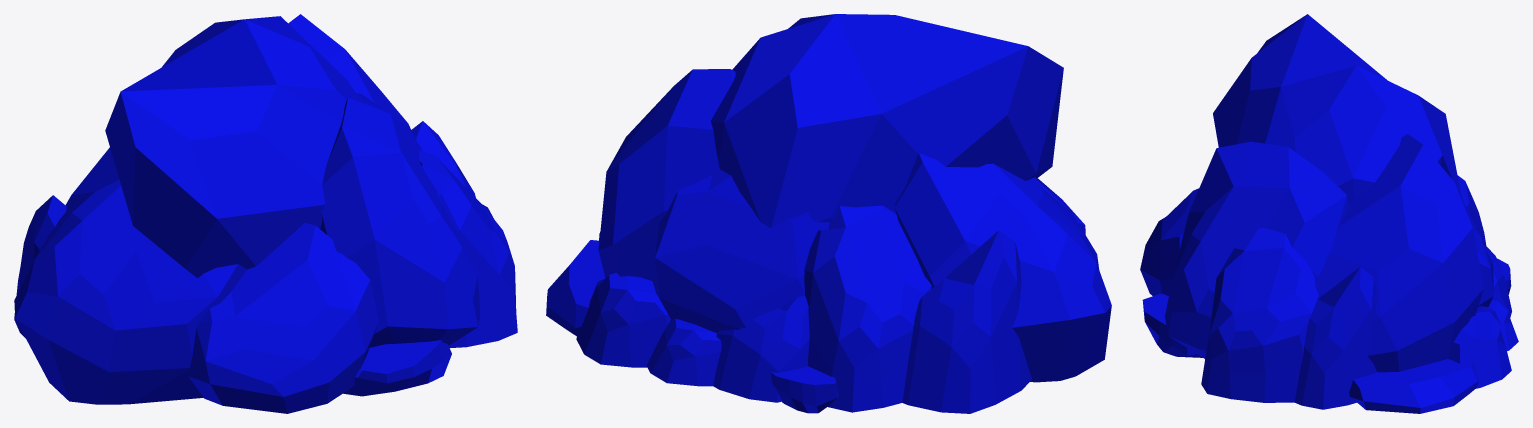
Rendered from SM_Mountain3.fbx.
3 renders of one model, left to right at view 1: azimuth 30°, elevation 25°; view 2: azimuth 150°, elevation 25°; view 3: azimuth 270°, elevation 25°, orthographic. The views are drawn at different scales.
Parts seen in each view (by area): view 1: SM_Mountain3; view 2: SM_Mountain3; view 3: SM_Mountain3.
Part boxes in pixels (left/top/right/bottom): SM_Mountain3: left=14, top=14, right=517, bottom=413; SM_Mountain3: left=546, top=14, right=1111, bottom=413; SM_Mountain3: left=1140, top=14, right=1518, bottom=413.
Size of the model in its own units: 2905 by 1759 by 2350.
